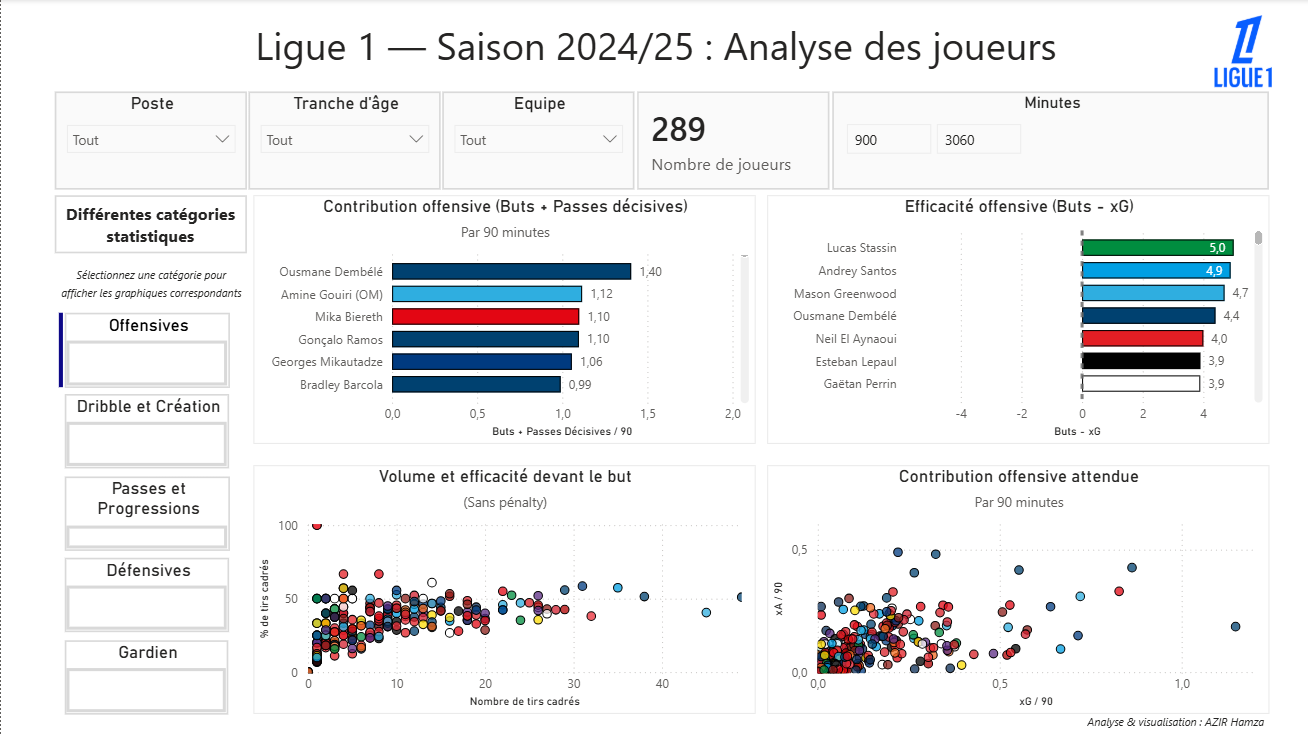

This screenshot's page, from the dashboard's own definition file:
{"tool":"powerbi","page":{"name":"Doublon de OverView","canvas":[1280,720],"ordinal":1},"visuals":[{"type":"clusteredBarChart","title":"Contribution offensive (Buts + Passes décisives)","fields":{"Category":["players_ligue1_2024_25 (2).Joueur"],"Y":["Avg(players_ligue1_2024_25(2).GA/90m)"]},"box":[247,192.1,491,243],"z":0,"group":"g1"},{"type":"textbox","box":[1058,692,188,28],"z":0},{"type":"textbox","box":[144,15,992.9,61.4],"z":1000},{"type":"scatterChart","title":"Contribution offensive attendue","fields":{"Category":["players_ligue1_2024_25 (2).Joueur"],"X":["Sum(players_ligue1_2024_25 (2).xG/90m)"],"Y":["Sum(players_ligue1_2024_25 (2).xA/90m)"]},"box":[749.5,456,491,243],"z":1000,"group":"g1"},{"type":"image","box":[1175,16.2,80,70],"z":2000},{"type":"clusteredBarChart","title":"Efficacité offensive (Buts - xG)","fields":{"Category":["players_ligue1_2024_25 (2).Joueur"],"Y":["Sum(players_ligue1_2024_25(2).Buts - xG)"]},"box":[749,192,491,243],"z":2000,"group":"g1"},{"type":"slicer","title":"Tranche d''âge","fields":{"Values":["players_ligue1_2024_25 (2).Tranche_Age"]},"box":[242,90,188,96],"z":3000},{"type":"scatterChart","title":"Volume et efficacité devant le but","fields":{"Category":["players_ligue1_2024_25 (2).Joueur"],"X":["Sum(players_ligue1_2024_25(2).Tirs_Cadrés(sans_pénalty))"],"Y":["Sum(players_ligue1_2024_25(2).%_Tirs_Cadrés(sans_pénalty))"]},"box":[247,456,491,243],"z":3000,"group":"g1"},{"type":"slicer","title":"Minutes","fields":{"Values":["players_ligue1_2024_25 (2).Minutes"]},"box":[812.8,90,427.6,96],"z":4000},{"type":"shape","box":[52,307,12,73],"z":4000,"group":"g1"},{"type":"slicer","title":"Equipe","fields":{"Values":["players_ligue1_2024_25 (2).Equipe"]},"box":[432,90,188,96],"z":5000},{"type":"slicer","title":"Poste","fields":{"Values":["players_ligue1_2024_25 (2).Position"]},"box":[52.5,90,188,96],"z":6000},{"type":"cardVisual","fields":{"Data":["CountNonNull(players_ligue1_2024_25 (2).Joueur)"]},"box":[622,90,188,96],"z":7000},{"type":"group","id":"g1","title":"Offensif","box":[52,192,1188.5,507],"z":8000},{"type":"actionButton","title":"Offensives","box":[62,307,161.2,73.8],"z":13000},{"type":"actionButton","title":"Passes et Progressions","box":[62,467,161.2,73],"z":14000},{"type":"actionButton","title":"Dribble et Création","box":[62,387,161,73],"z":15000},{"type":"actionButton","title":"Gardien","box":[62,627.5,160,73],"z":16000},{"type":"actionButton","title":"Défensives","box":[62,547,161,73],"z":17000},{"type":"textbox","box":[52,192,188,57.1],"z":18000},{"type":"textbox","box":[52,254,189,45],"z":19000}]}

Visuals, with their boxes in screenshot pixels (x1, y1, x2, y2), scaled from the page's 1280x720 canvas onto the 1308x734 screenshot:
"Contribution offensive (Buts + Passes décisives)" clusteredBarChart: 252, 196, 754, 444
textbox: 1081, 705, 1273, 733
textbox: 147, 15, 1162, 78
"Contribution offensive attendue" scatterChart: 766, 465, 1268, 713
image: 1201, 17, 1282, 88
"Efficacité offensive (Buts - xG)" clusteredBarChart: 765, 196, 1267, 443
"Tranche d''âge" slicer: 247, 92, 439, 190
"Volume et efficacité devant le but" scatterChart: 252, 465, 754, 713
"Minutes" slicer: 831, 92, 1268, 190
shape: 53, 313, 65, 387
"Equipe" slicer: 441, 92, 634, 190
"Poste" slicer: 54, 92, 246, 190
cardVisual - CountNonNull(players_ligue1_2024_25 (2).Joueur): 636, 92, 828, 190
"Offensif" group: 53, 196, 1268, 713
"Offensives" actionButton: 63, 313, 228, 388
"Passes et Progressions" actionButton: 63, 476, 228, 550
"Dribble et Création" actionButton: 63, 395, 228, 469
"Gardien" actionButton: 63, 640, 227, 714
"Défensives" actionButton: 63, 558, 228, 632
textbox: 53, 196, 245, 254
textbox: 53, 259, 246, 305
